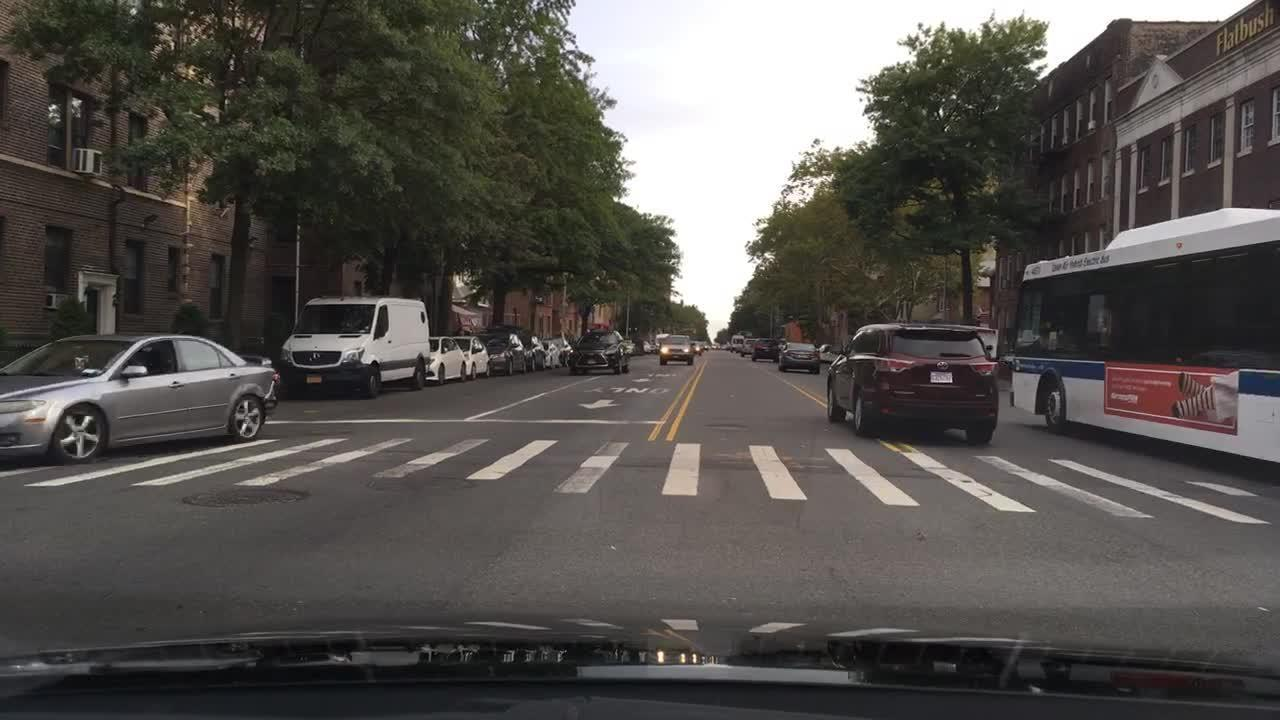Mercedes: (305, 349, 326, 369)
